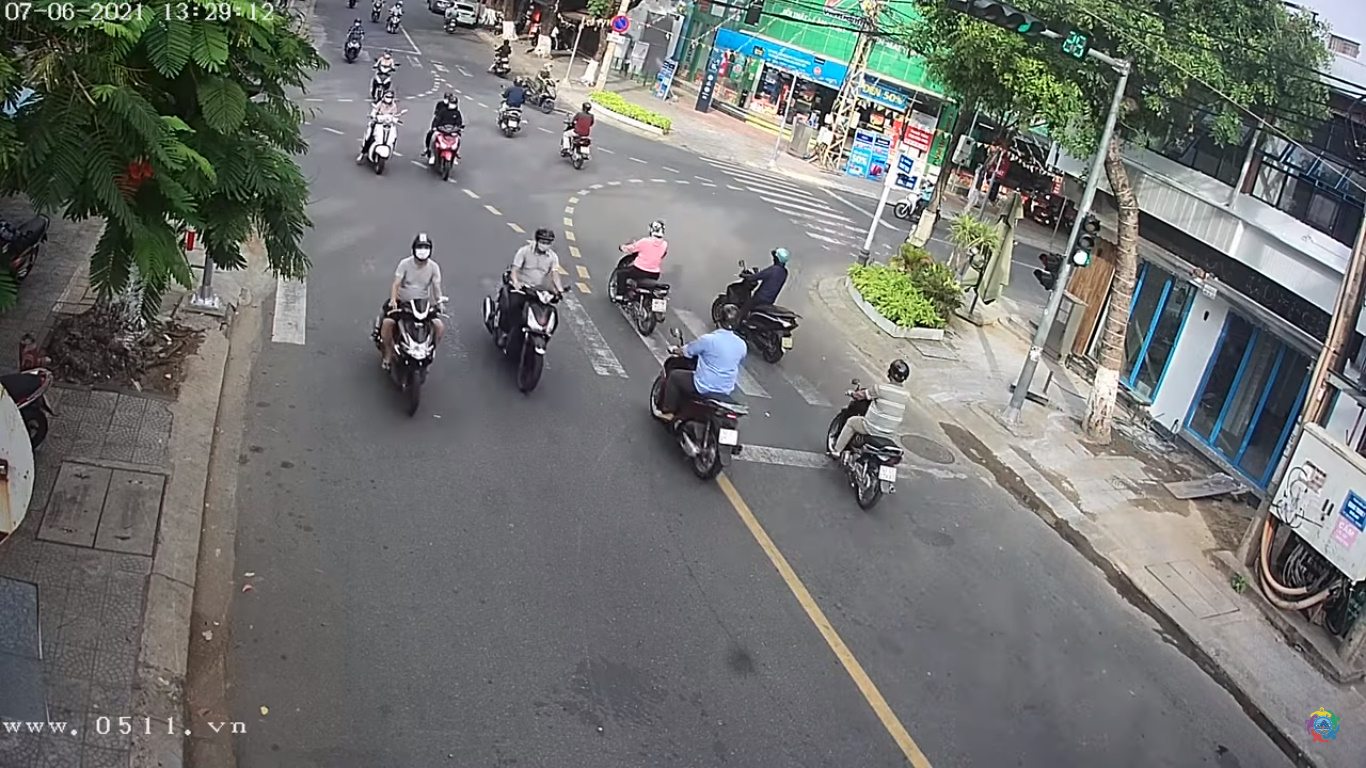motorbike: (481, 232, 571, 394), (374, 242, 458, 412)
